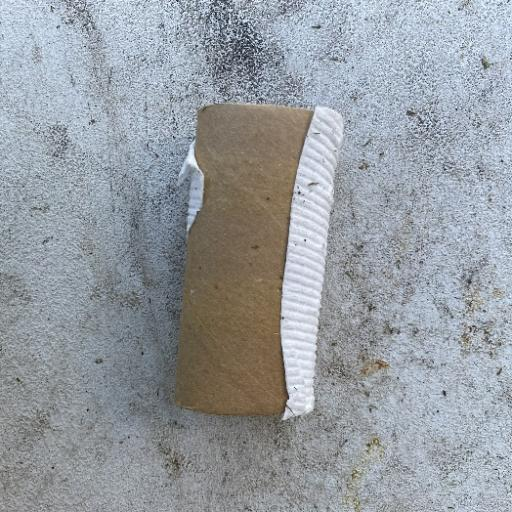Cardboard: (171, 102, 345, 421)
